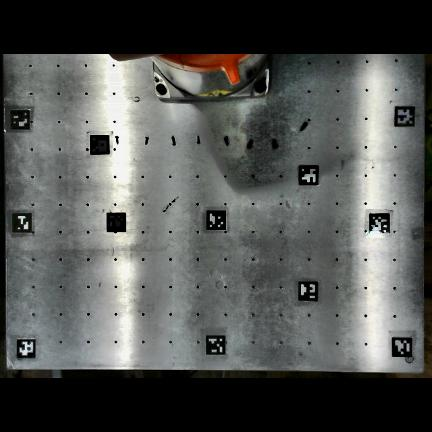black_screw: (172, 136, 176, 146), (114, 135, 118, 143), (195, 137, 200, 143), (246, 140, 250, 147), (272, 140, 275, 147), (303, 122, 306, 127), (144, 136, 148, 138), (226, 137, 227, 142)
marker: (394, 107, 415, 128), (12, 213, 32, 234), (370, 214, 390, 234), (299, 166, 319, 186), (298, 282, 318, 302), (206, 337, 226, 357), (10, 111, 29, 132), (207, 210, 226, 231), (392, 338, 412, 357), (17, 339, 36, 359), (107, 213, 126, 232), (90, 136, 109, 154)
